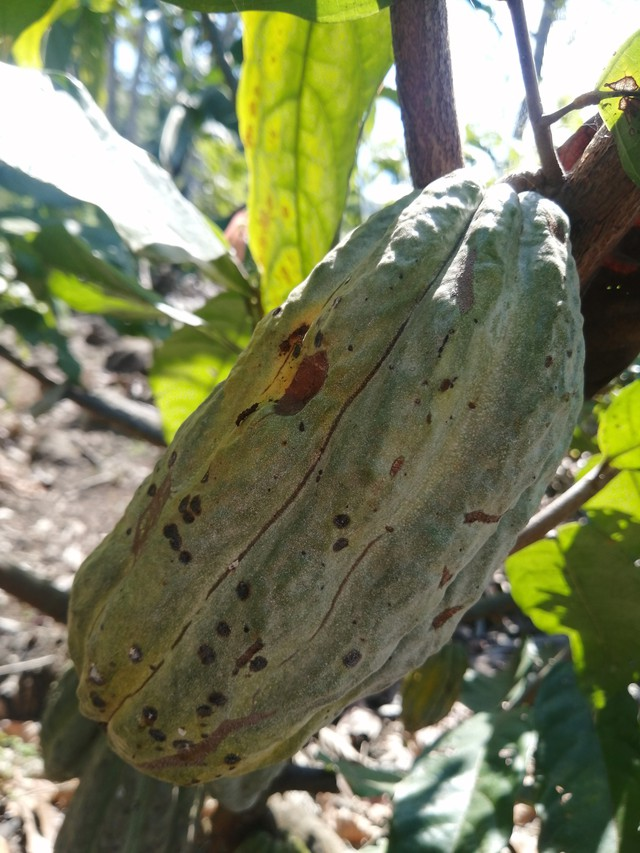moniliophthora perniciosa: (44, 157, 609, 794)
